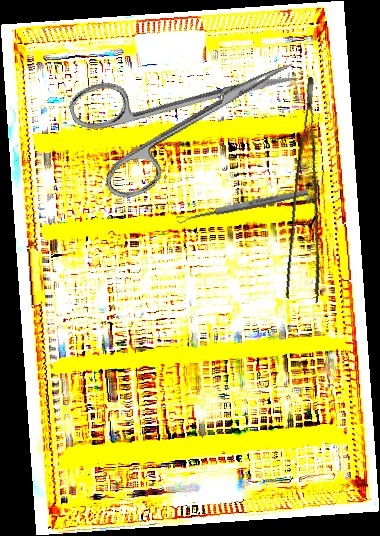Iris Scissors: (64, 18, 317, 208)
Surgical Spoon: (176, 187, 309, 225)
Tissue Forceps: (273, 76, 353, 304)
